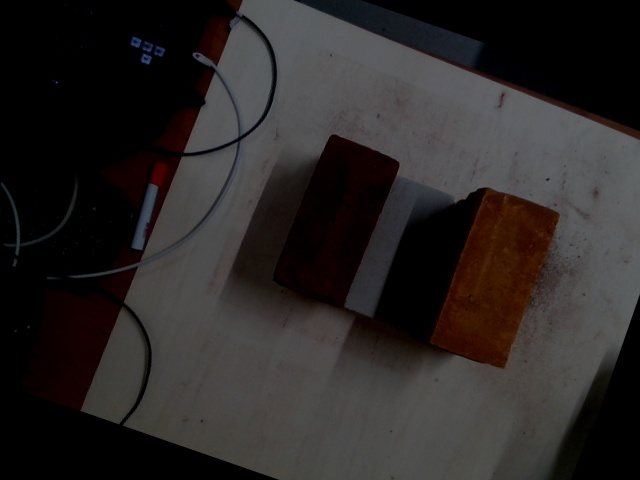brick: (432, 190, 558, 370), (270, 135, 400, 306), (344, 174, 456, 331)
